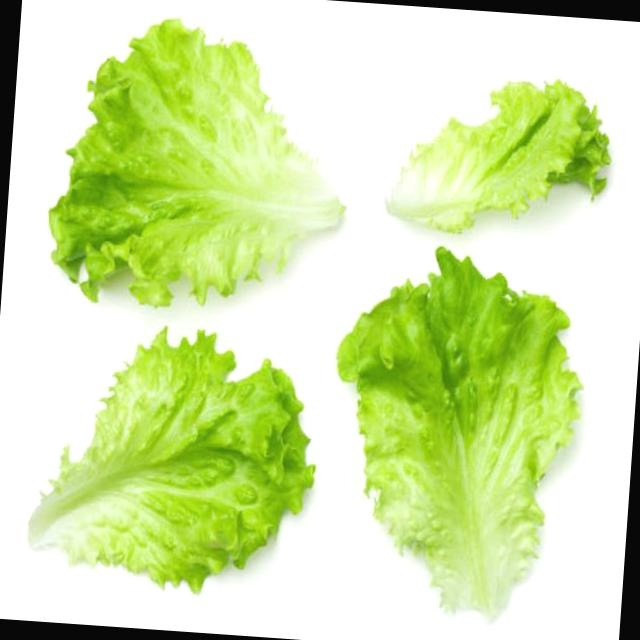Lettuce-Ready-to-Harvest: (338, 247, 580, 616), (49, 19, 344, 305), (29, 330, 312, 589), (387, 81, 609, 231)
